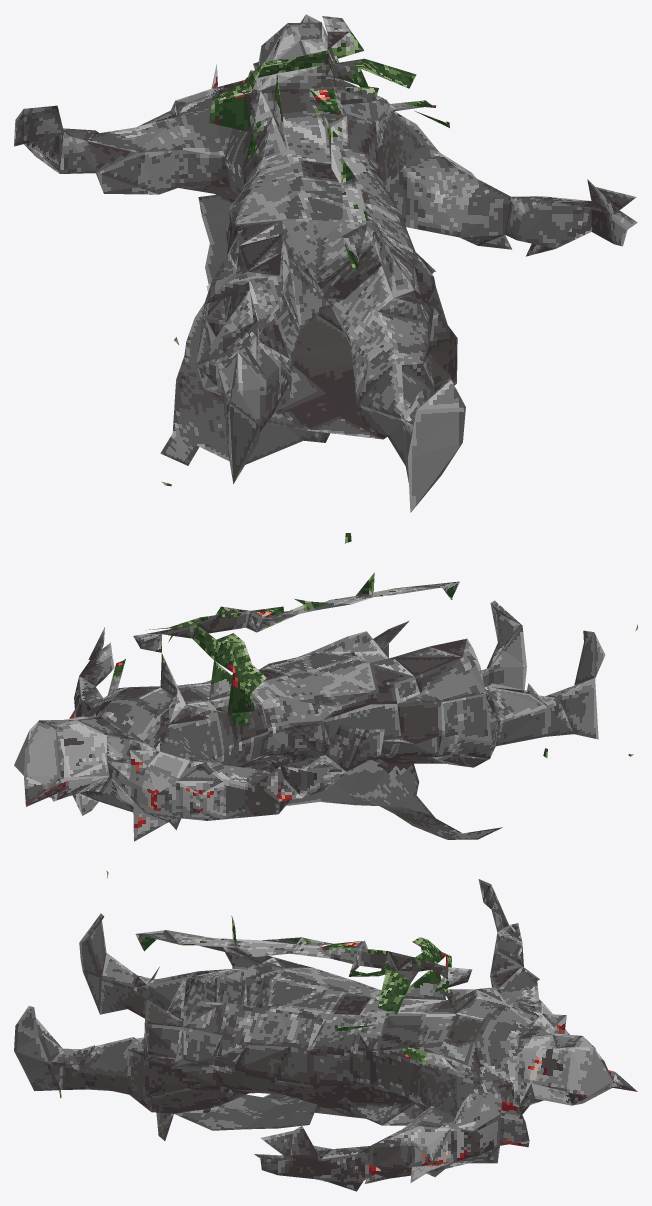
Rendered from kishi.glb.
The picture shows the model from 3 angles, top to bottom: view 1: azimuth 30°, elevation 25°; view 2: azimuth 150°, elevation 25°; view 3: azimuth 270°, elevation 25°; orthographic projection. The views are drawn at different scales.
Visible parts, largest first — view 1: model_m; view 2: model_m; view 3: model_m.
Part boxes in pixels (x1,y1,x2,y2): model_m: (14,14,637,543); model_m: (14,572,637,841); model_m: (14,870,637,1191).
Bounding box in the file's own units: 25.12 × 12.4 × 30.55.
Materials: 1 (1 with a texture image).
